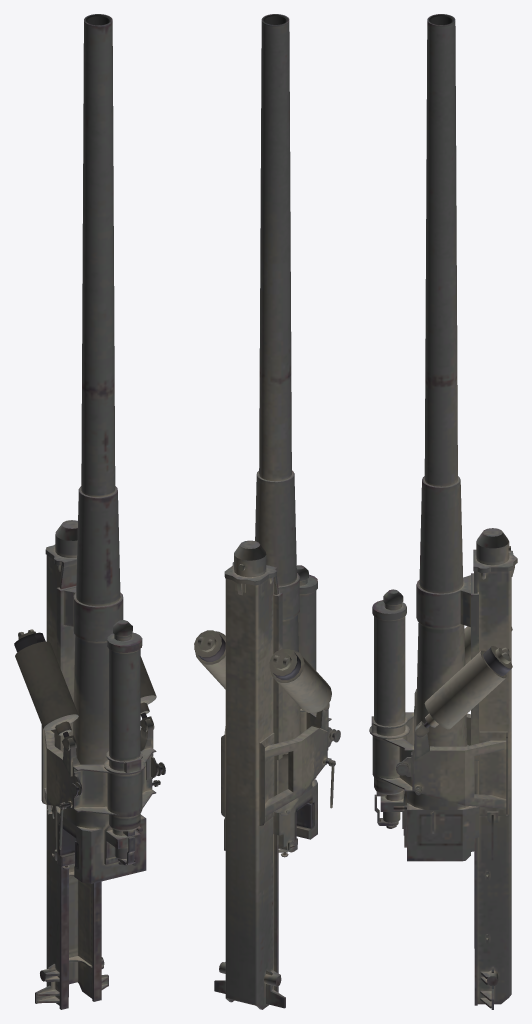
Rendered from Gun_04.glb.
The picture shows the model from 3 angles, left to right: view 1: azimuth 30°, elevation 25°; view 2: azimuth 150°, elevation 25°; view 3: azimuth 270°, elevation 25°; orthographic projection. The views are drawn at different scales.
Visible parts, largest first — view 1: set_0_group_0, set_0_group_1; view 2: set_0_group_0, set_0_group_1; view 3: set_0_group_0, set_0_group_1.
Boxes of the visible parts, x1,y1,x2,y2 form: set_0_group_0: [14, 14, 165, 1009]; set_0_group_1: [15, 629, 156, 849]; set_0_group_0: [198, 14, 340, 1009]; set_0_group_1: [194, 630, 335, 808]; set_0_group_0: [369, 14, 517, 1009]; set_0_group_1: [415, 626, 512, 737].
Bounding box in the file's own units: 0.8427 × 7.25 × 0.9995.
Materials: 2 (2 with a texture image).
